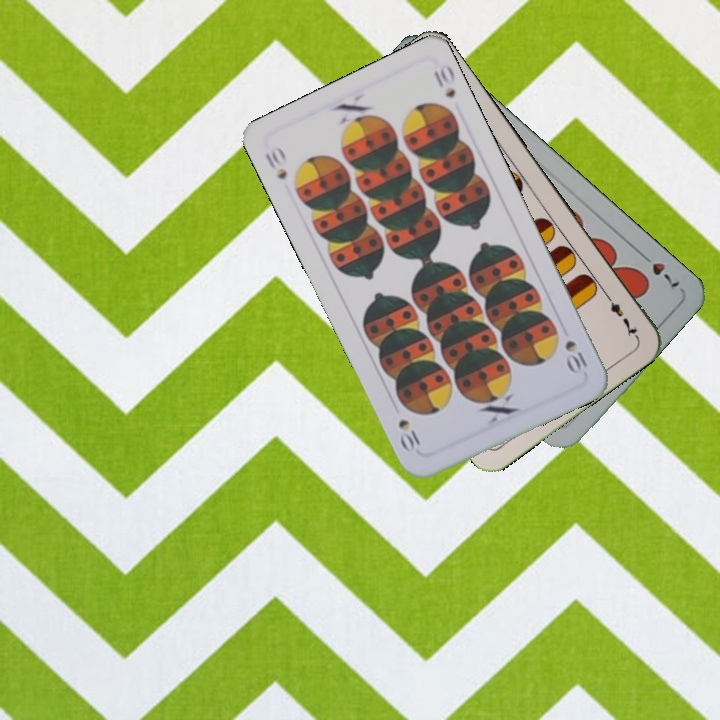E7: (601, 289, 641, 340)
H7: (635, 247, 682, 290)
S10: (560, 336, 592, 377), (261, 141, 290, 183)
